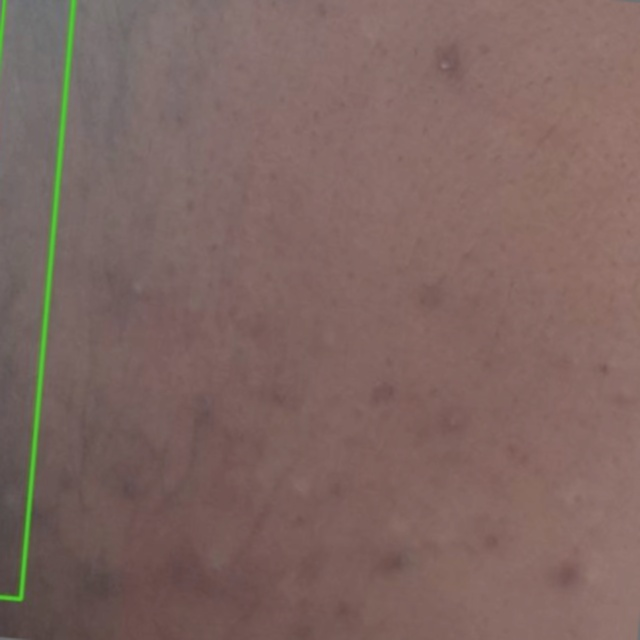Seborrheic Dermatitis: (0, 0, 73, 599)
